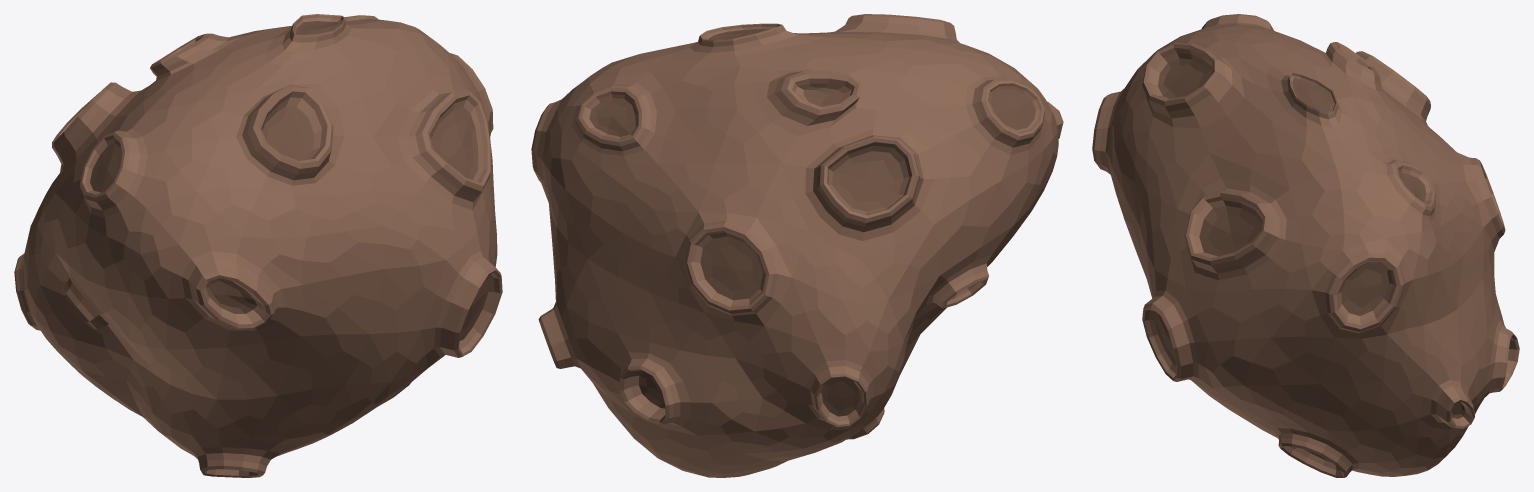
Rendered from Meteor3.fbx.
The picture shows the model from 3 angles, left to right: view 1: azimuth 30°, elevation 25°; view 2: azimuth 150°, elevation 25°; view 3: azimuth 270°, elevation 25°; orthographic projection. The views are drawn at different scales.
Parts seen in each view (by area): view 1: Meteor3; view 2: Meteor3; view 3: Meteor3.
Part boxes in pixels (x1,y1,x2,y2): Meteor3: [14, 14, 502, 477]; Meteor3: [531, 14, 1063, 477]; Meteor3: [1092, 14, 1519, 477].
Bounding box in the file's own units: 4.39 × 4.03 × 3.98.
